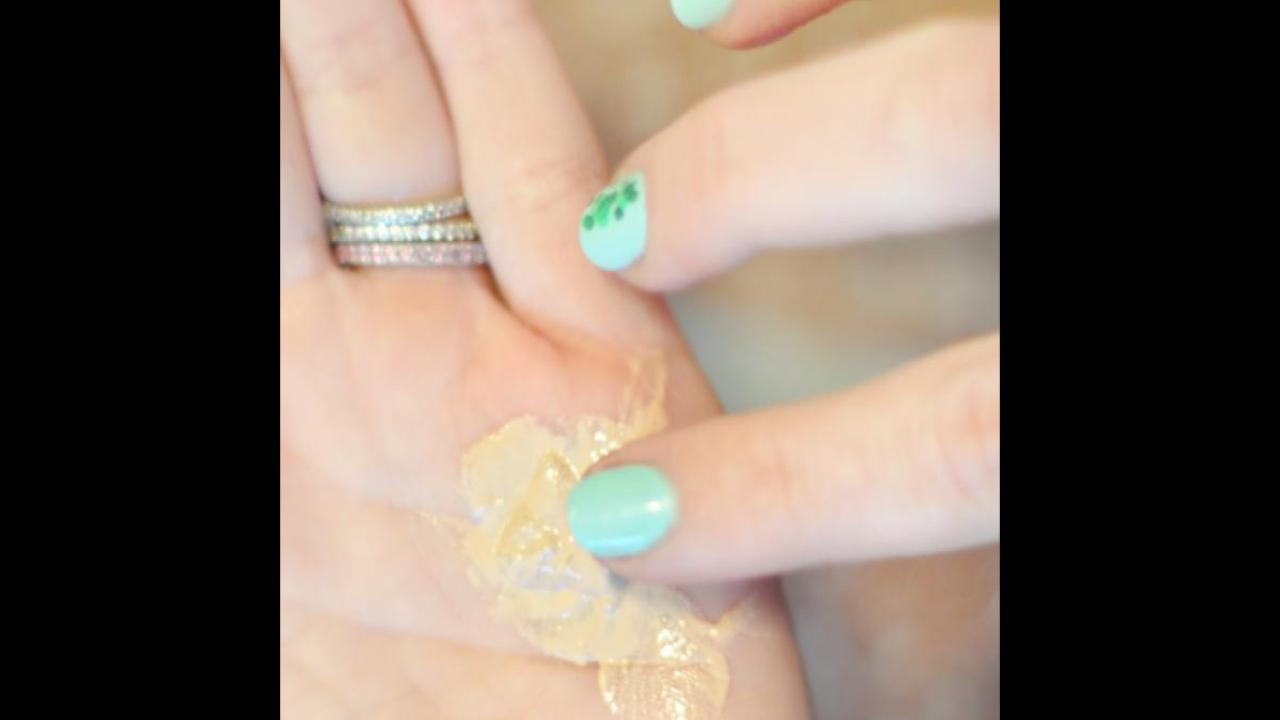ring: (316, 192, 484, 272)
